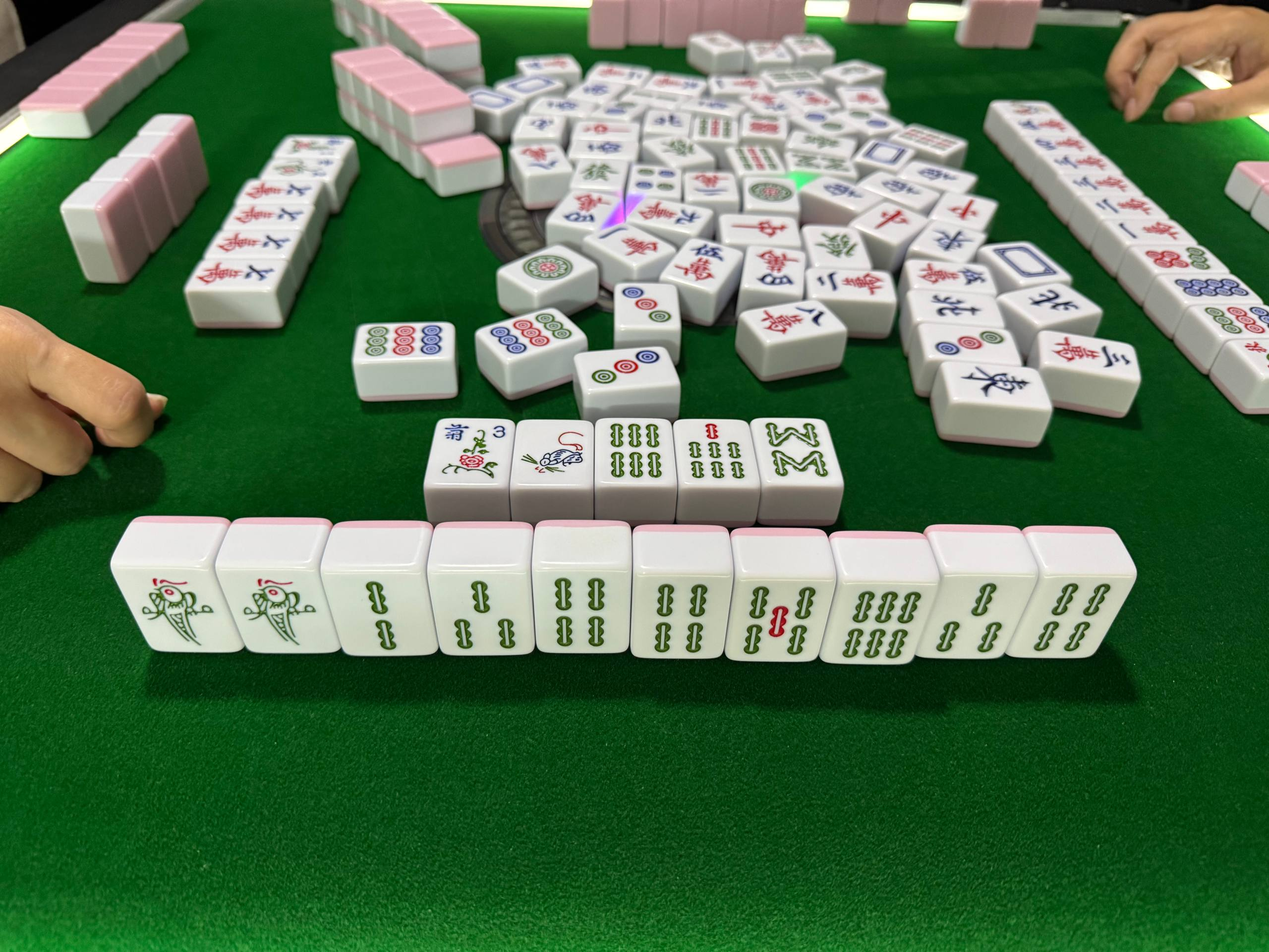TILE: (109, 565, 238, 651), (1012, 571, 1134, 659), (929, 566, 1032, 662), (325, 573, 435, 659), (218, 568, 333, 650), (824, 582, 939, 664), (634, 573, 731, 665), (429, 573, 529, 659), (529, 568, 629, 654), (734, 577, 828, 662), (753, 413, 848, 491), (426, 416, 514, 489), (598, 414, 678, 492), (677, 413, 758, 489), (514, 416, 597, 486)
